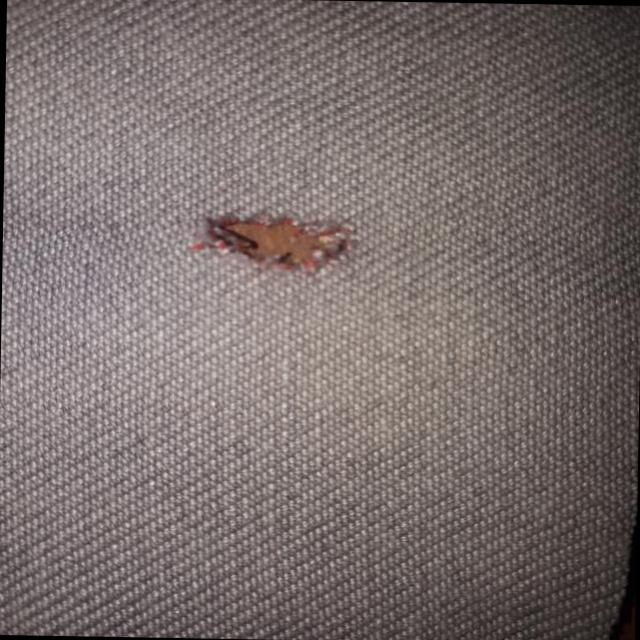hole: (190, 208, 357, 275)
